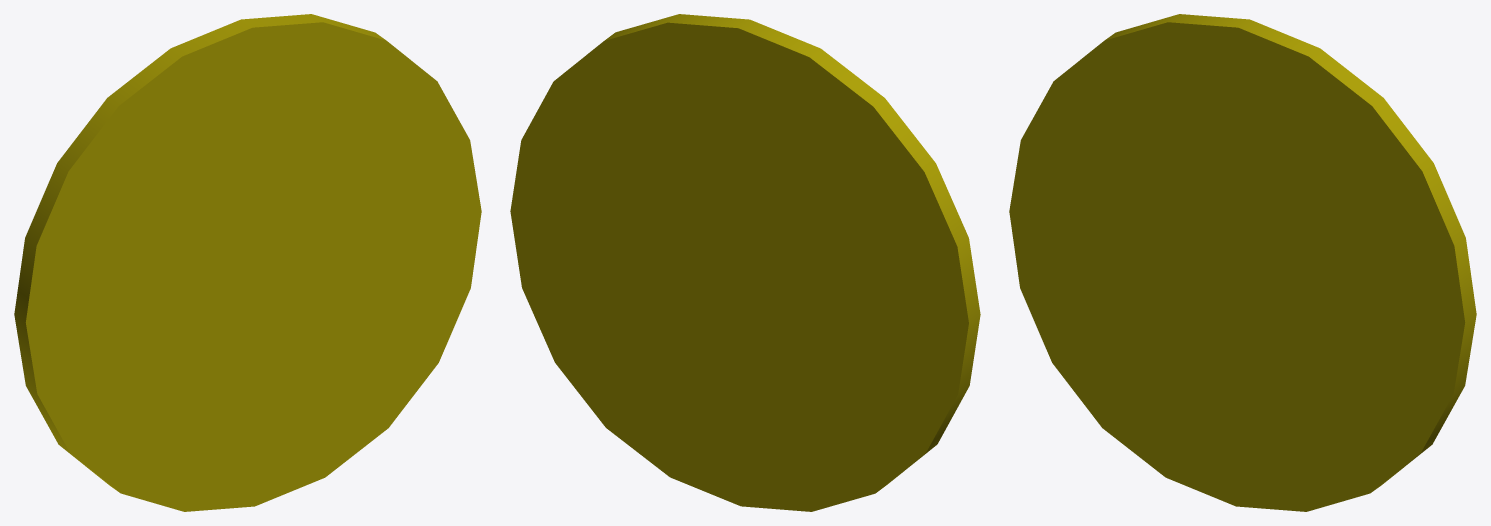
File: Gold.fbx
3 views of the same model, side by side, from view 1: azimuth 30°, elevation 25°; view 2: azimuth 150°, elevation 25°; view 3: azimuth 330°, elevation 25° (orthographic).
Parts seen in each view (by area): view 1: pCylinder1; view 2: pCylinder1; view 3: pCylinder1.
Boxes of the visible parts, box(x1,y1,x2,y2) form: pCylinder1: box(14, 14, 481, 511); pCylinder1: box(510, 14, 980, 511); pCylinder1: box(1009, 14, 1476, 511).
Bounding box in the file's own units: 2 × 2 × 0.1055.
